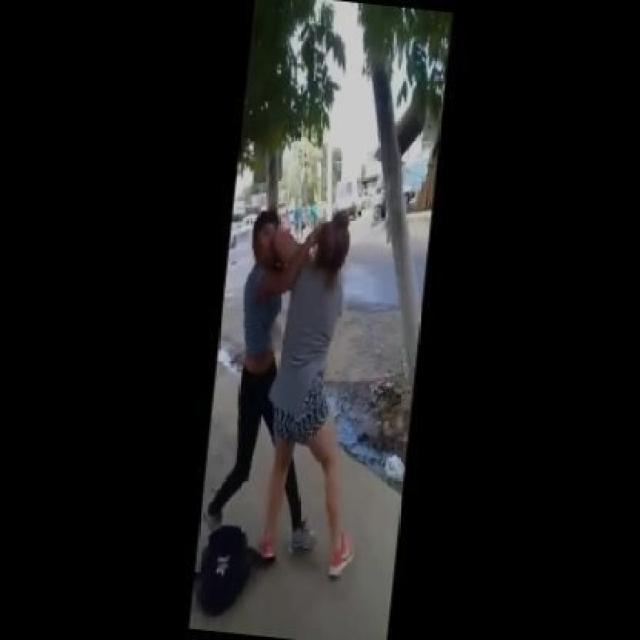fight: (180, 182, 388, 626)
